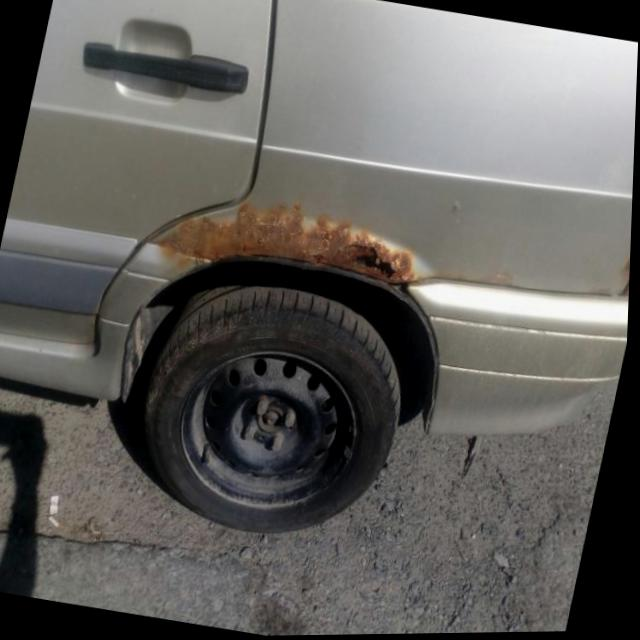Rust: (154, 196, 433, 285), (435, 270, 514, 287), (589, 286, 622, 295), (620, 248, 630, 274)
